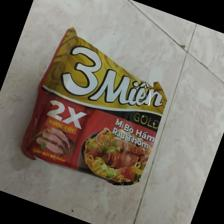3mien: (20, 28, 167, 187)
